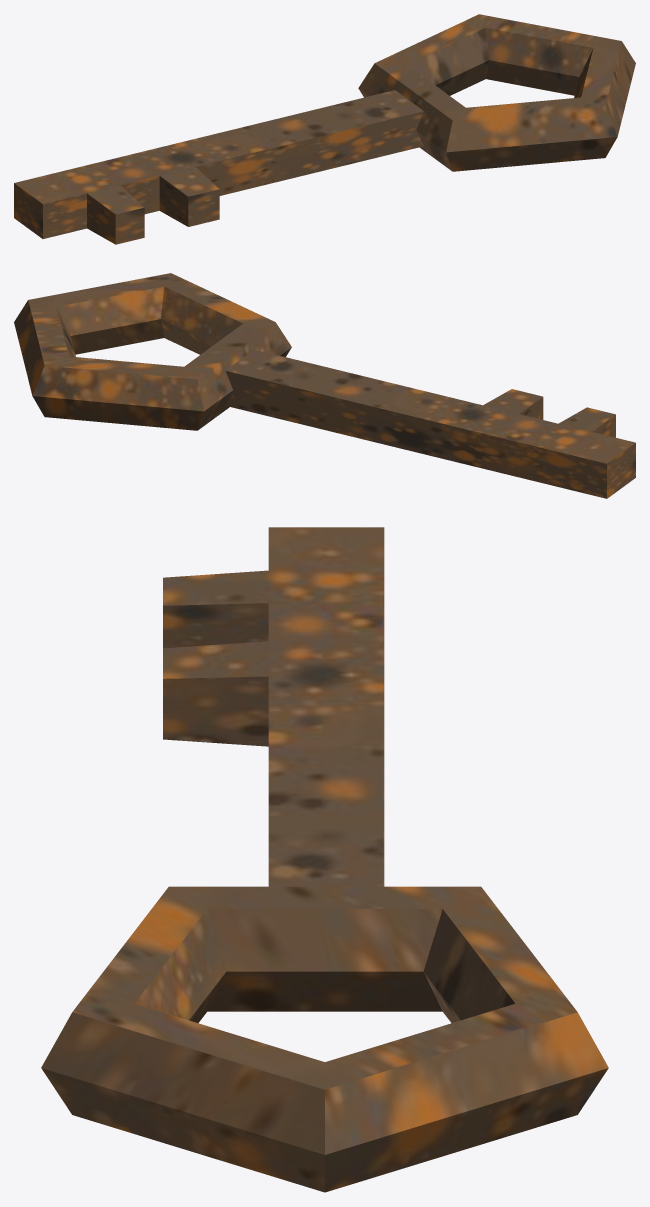
File: Key1.fbx
3 views of the same model, one above another, from view 1: azimuth 30°, elevation 25°; view 2: azimuth 150°, elevation 25°; view 3: azimuth 270°, elevation 25° (orthographic). The views are drawn at different scales.
Parts seen in each view (by area): view 1: Torus, Cube; view 2: Torus, Cube; view 3: Torus, Cube.
Boxes of the visible parts, x1=… form: Torus: x1=358, y1=14, x2=635, y2=171; Cube: x1=14, y1=90, x2=423, y2=244; Torus: x1=14, y1=273, x2=291, y2=430; Cube: x1=225, y1=349, x2=635, y2=498; Torus: x1=41, y1=886, x2=608, y2=1192; Cube: x1=163, y1=527, x2=384, y2=886.
Size of the model in its own units: 536 by 43.3 by 217.
1 material, 1 textured.
